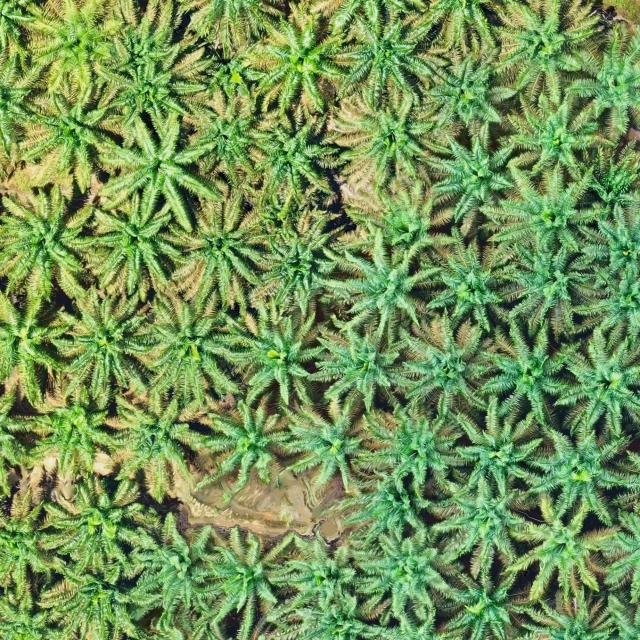Tree: (82, 105, 231, 238), (309, 222, 444, 342), (102, 0, 221, 132), (481, 0, 620, 110), (312, 0, 452, 109), (497, 487, 624, 603), (237, 8, 362, 124), (473, 158, 610, 262), (329, 90, 459, 199), (51, 283, 160, 409), (485, 234, 608, 339), (38, 474, 164, 576), (29, 64, 134, 183), (525, 410, 635, 523), (416, 117, 523, 233), (205, 524, 312, 640), (87, 190, 193, 305), (496, 90, 605, 200), (414, 42, 526, 149), (396, 303, 501, 417), (428, 474, 540, 580), (148, 280, 244, 402), (178, 191, 272, 315), (7, 0, 128, 95), (236, 300, 338, 412), (477, 317, 582, 425), (423, 215, 522, 329), (0, 183, 99, 297), (32, 552, 158, 640), (100, 388, 202, 493), (249, 206, 343, 319), (350, 520, 454, 620), (252, 110, 346, 220), (319, 315, 419, 418), (280, 394, 387, 490), (551, 321, 640, 436), (451, 392, 542, 502), (123, 508, 221, 610), (180, 83, 274, 189), (199, 394, 298, 492), (432, 559, 545, 640), (361, 392, 465, 480), (0, 279, 74, 402), (561, 30, 640, 144), (24, 381, 115, 479), (340, 461, 446, 545), (339, 177, 449, 247), (0, 472, 61, 594), (572, 245, 640, 352), (280, 528, 365, 610), (268, 581, 380, 640), (572, 190, 640, 281), (175, 0, 296, 49), (568, 134, 640, 214), (512, 588, 622, 640), (0, 572, 68, 640), (600, 504, 640, 608), (362, 604, 468, 640), (608, 425, 640, 521), (592, 585, 640, 640)
